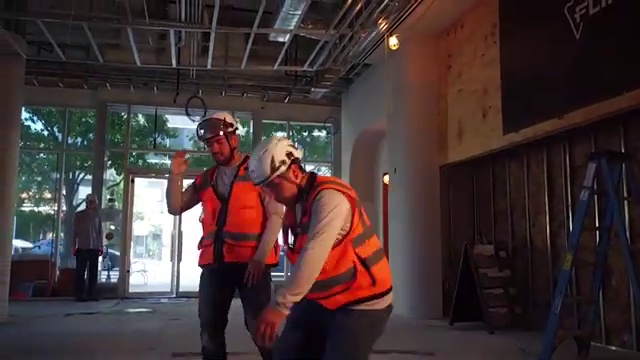helmet: (247, 126, 297, 181), (197, 107, 231, 144)
jacket: (282, 174, 395, 312), (186, 173, 285, 274)
